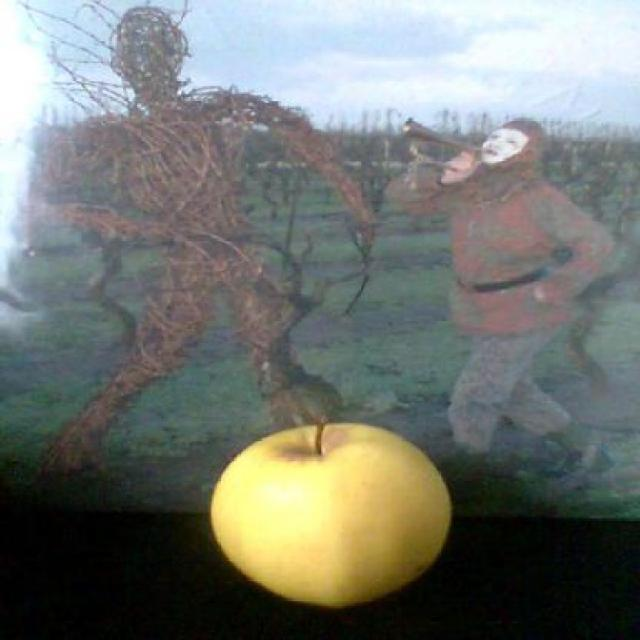Apple pie: (210, 418, 458, 604)
